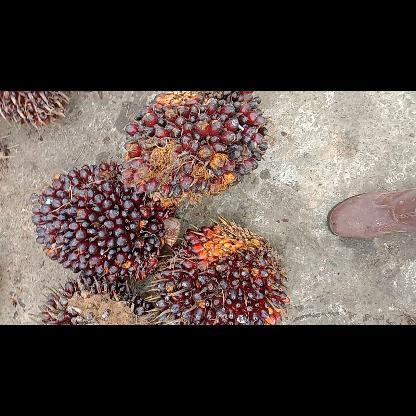Kurang masak: (28, 160, 180, 282), (118, 90, 270, 209), (148, 220, 290, 324)
